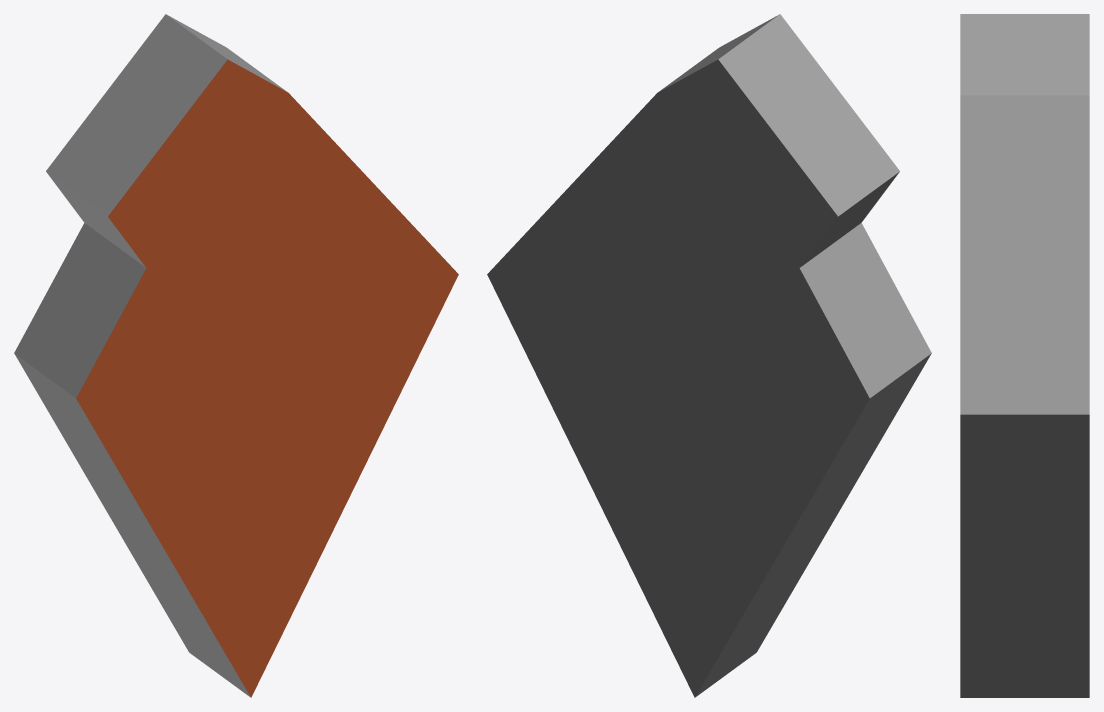
Rendered from construction_3836_assumed_A_Casa_h6m.obj.
3 renders of one model, left to right at view 1: azimuth 30°, elevation 25°; view 2: azimuth 150°, elevation 25°; view 3: azimuth 270°, elevation 25°, orthographic. The views are drawn at different scales.
Visible parts, largest first — view 1: construction_3836_assumed_A_Casa; view 2: construction_3836_assumed_A_Casa; view 3: construction_3836_assumed_A_Casa.
Boxes of the visible parts, box(x1,y1,x2,y2) form: construction_3836_assumed_A_Casa: box(14, 14, 458, 697); construction_3836_assumed_A_Casa: box(487, 14, 931, 697); construction_3836_assumed_A_Casa: box(960, 14, 1089, 697).
Bounding box in the file's own units: 21.38 × 34.39 × 6.
